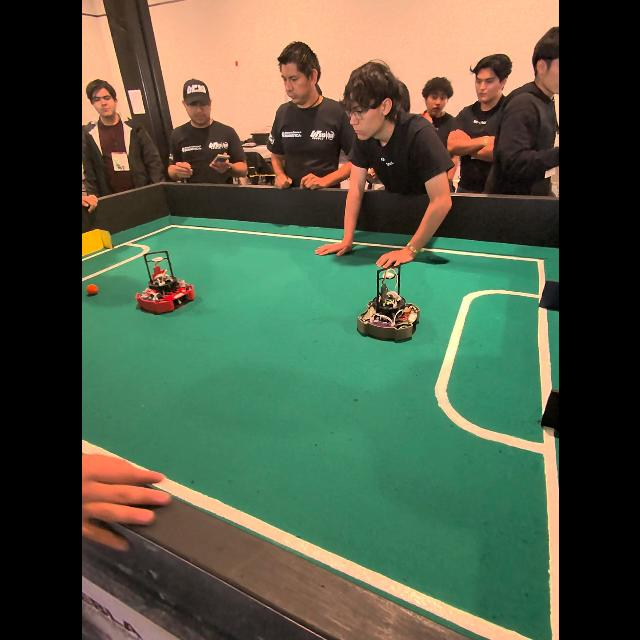ball: (86, 284, 97, 295)
goal: (81, 229, 112, 256)
robot: (356, 266, 419, 341), (134, 252, 193, 313)
